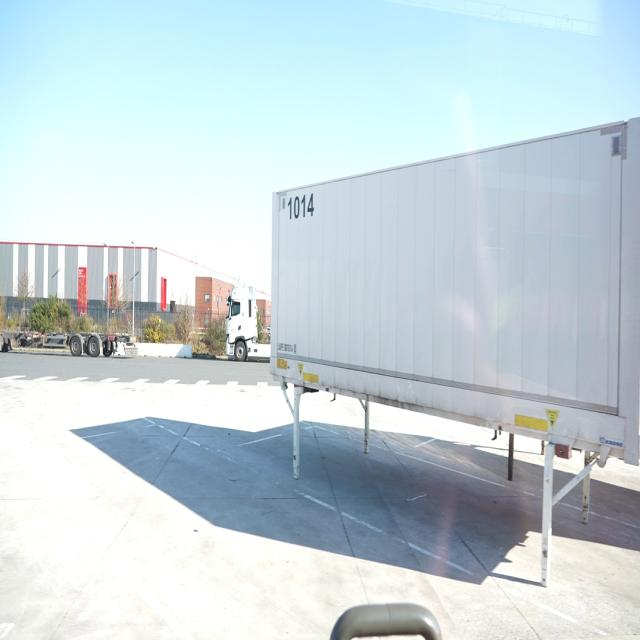Code: (285, 187, 320, 227)
